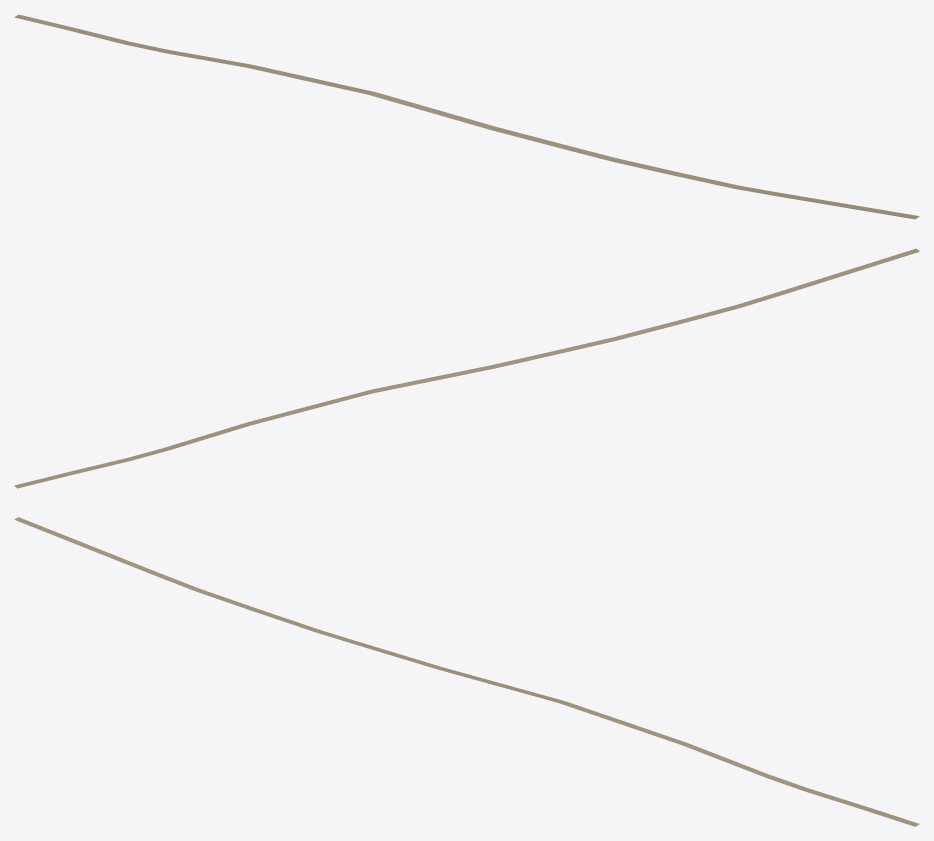
Rendered from farm_-9_-4_track.glb.
3 renders of one model, top to bottom at view 1: azimuth 90°, elevation 25°; view 2: azimuth 150°, elevation 25°; view 3: azimuth 270°, elevation 25°, orthographic. The views are drawn at different scales.
Visible parts, largest first — view 1: geometry_0; view 2: geometry_0; view 3: geometry_0.
Part boxes in pixels (x1,y1,x2,y2): geometry_0: (14, 14, 919, 219); geometry_0: (14, 248, 919, 488); geometry_0: (14, 517, 919, 826).
Bounding box in the file's own units: 240 × 22.92 × 356.
